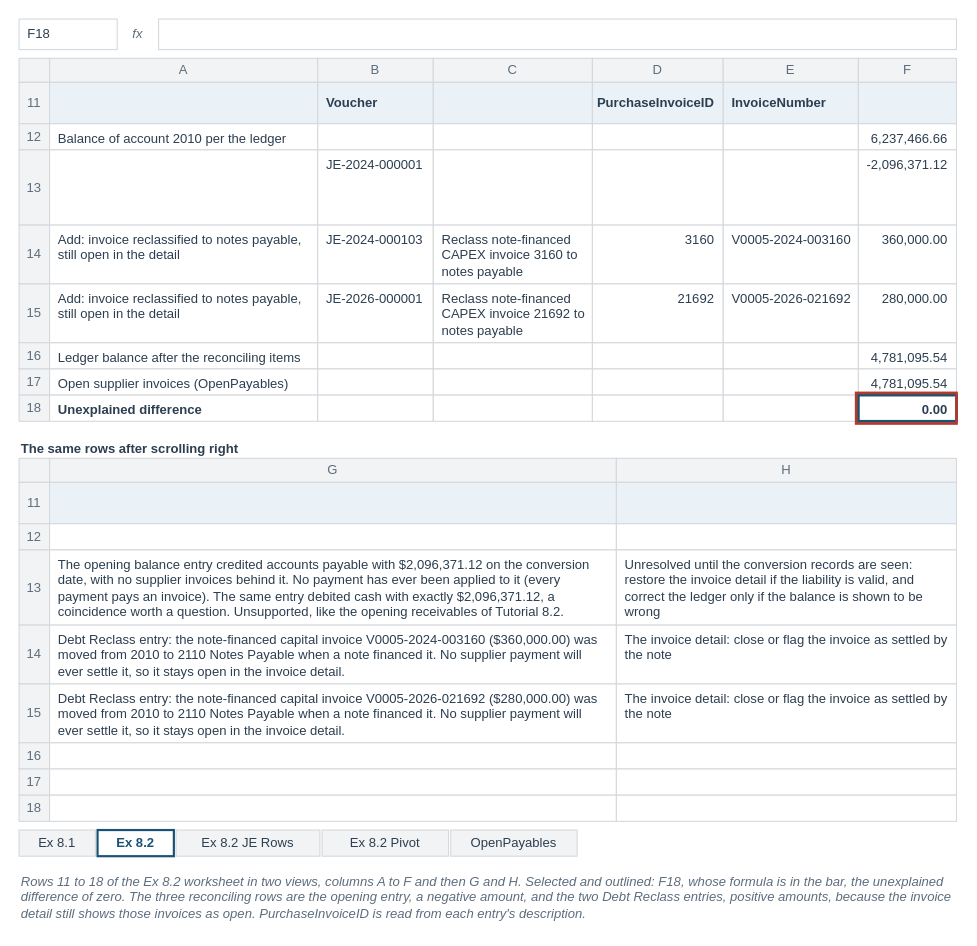
Image size: 977x946. Some labels were removed from this diagram. Here are the shapes that lost their labels. From the top down, the centre of each, then its label:
[557,34]: =ROUND(F16-F17,2)
[183,102]: Item
[512,102]: Entry description (JournalEntries)
[906,102]: Amount
[183,187]: Less: opening balance with no invoice detail
[512,187]: Opening balance entry for January 1, 2024
[332,502]: What it is
[785,502]: Correction belongs in
